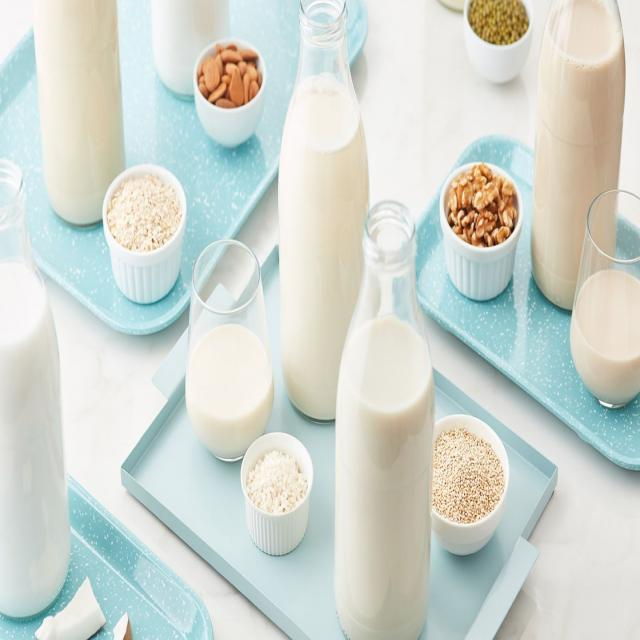Milk carton/jug: (278, 80, 376, 429), (335, 314, 430, 640), (532, 15, 626, 310), (0, 260, 74, 631), (31, 0, 131, 232), (188, 322, 280, 465), (569, 267, 640, 412)
